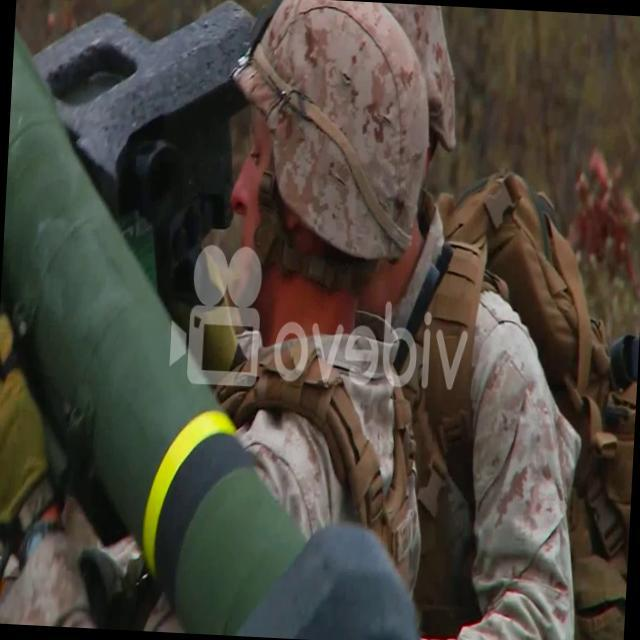rocket: (0, 60, 447, 640)
